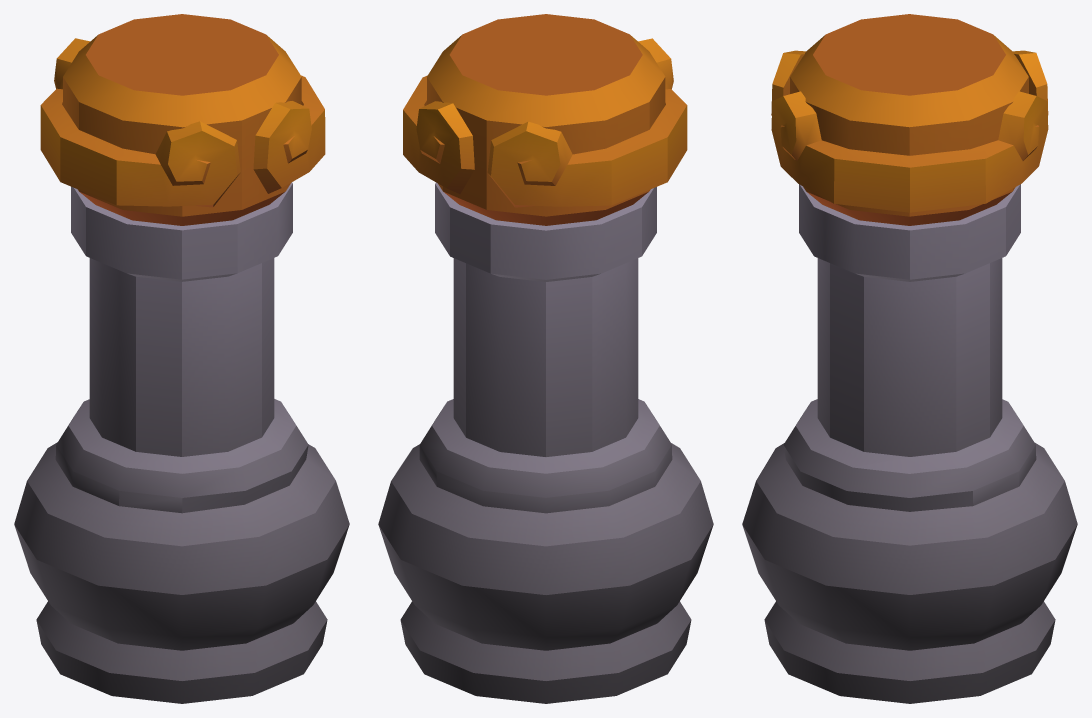
File: pillar_3.glb
3 views of the same model, side by side, from view 1: azimuth 30°, elevation 25°; view 2: azimuth 150°, elevation 25°; view 3: azimuth 270°, elevation 25° (orthographic).
Parts seen in each view (by area): view 1: pillar_3; view 2: pillar_3; view 3: pillar_3.
Part boxes in pixels (box(x1,y1,x2,y2)): pillar_3: box(14, 14, 349, 703); pillar_3: box(378, 14, 713, 703); pillar_3: box(742, 14, 1077, 703).
Size of the model in its own units: 1.11 by 2.15 by 1.11.
Materials: 1 (1 with a texture image).
